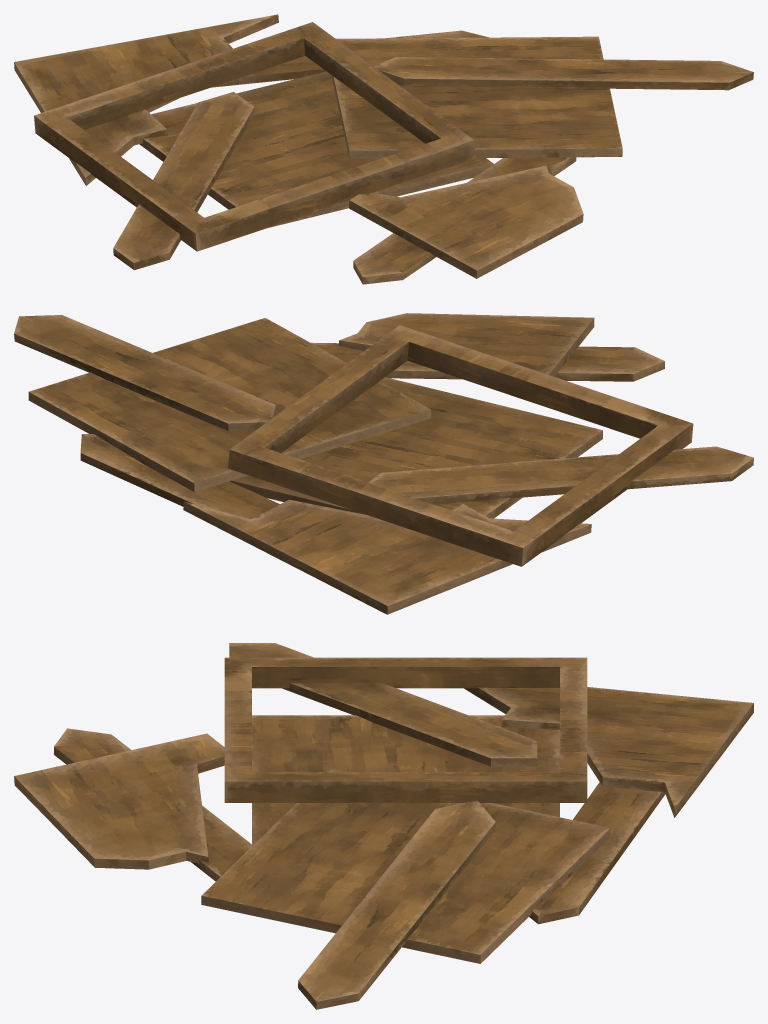
File: CajaRota2.fbx
3 renders of one model, top to bottom at view 1: azimuth 30°, elevation 25°; view 2: azimuth 150°, elevation 25°; view 3: azimuth 270°, elevation 25°, orthographic. The views are drawn at different scales.
Parts seen in each view (by area): view 1: CajaRota; view 2: CajaRota; view 3: CajaRota.
Boxes of the visible parts, left/top/right/bottom form: CajaRota: left=14, top=14, right=753, bottom=284; CajaRota: left=14, top=313, right=753, bottom=614; CajaRota: left=14, top=643, right=753, bottom=1009.
Bounding box in the file's own units: 377 × 28.42 × 326.
